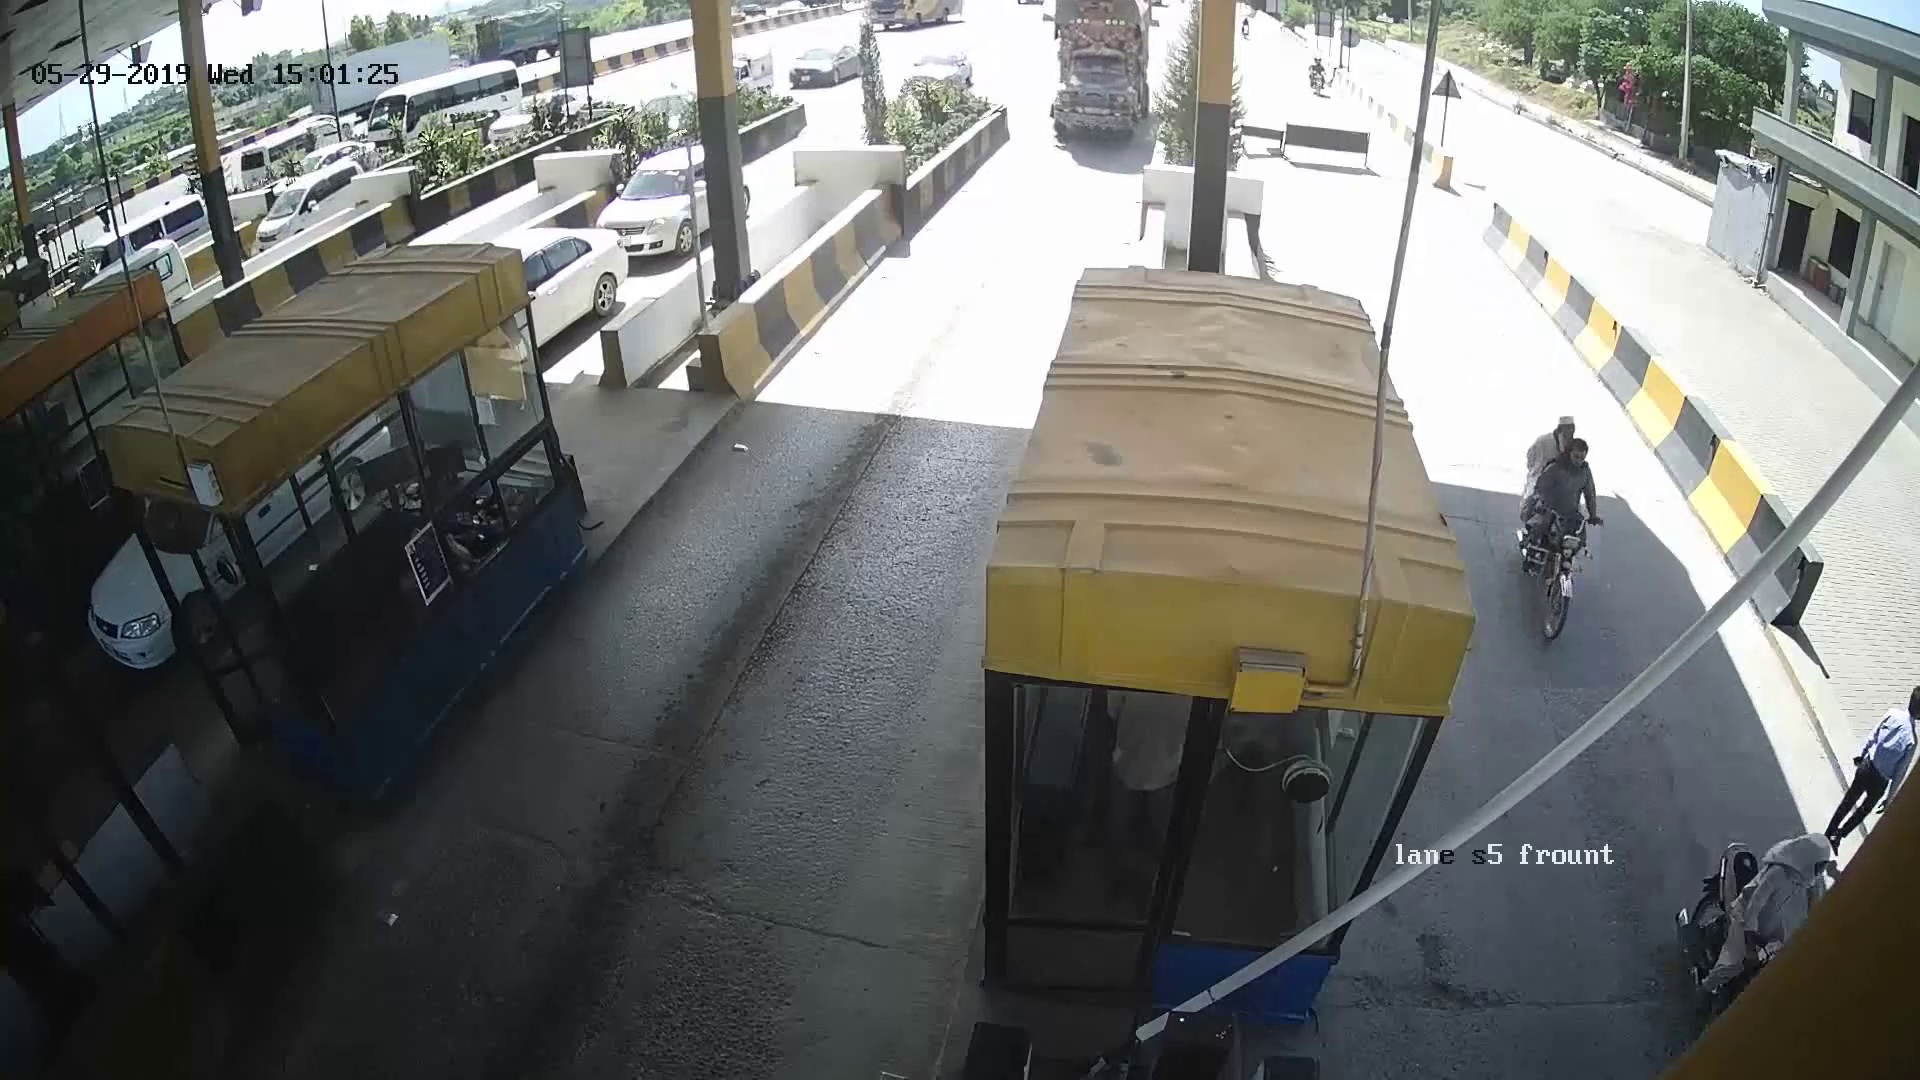truck: (1038, 18, 1158, 145)
